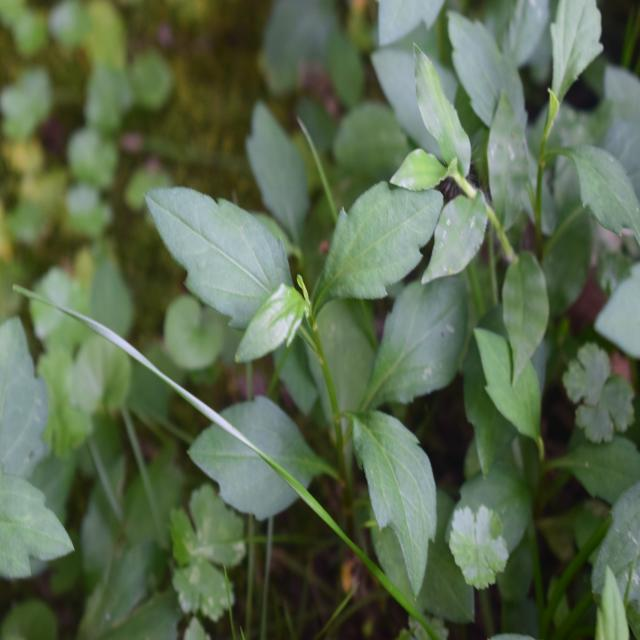Indian aster: (154, 156, 442, 574)
